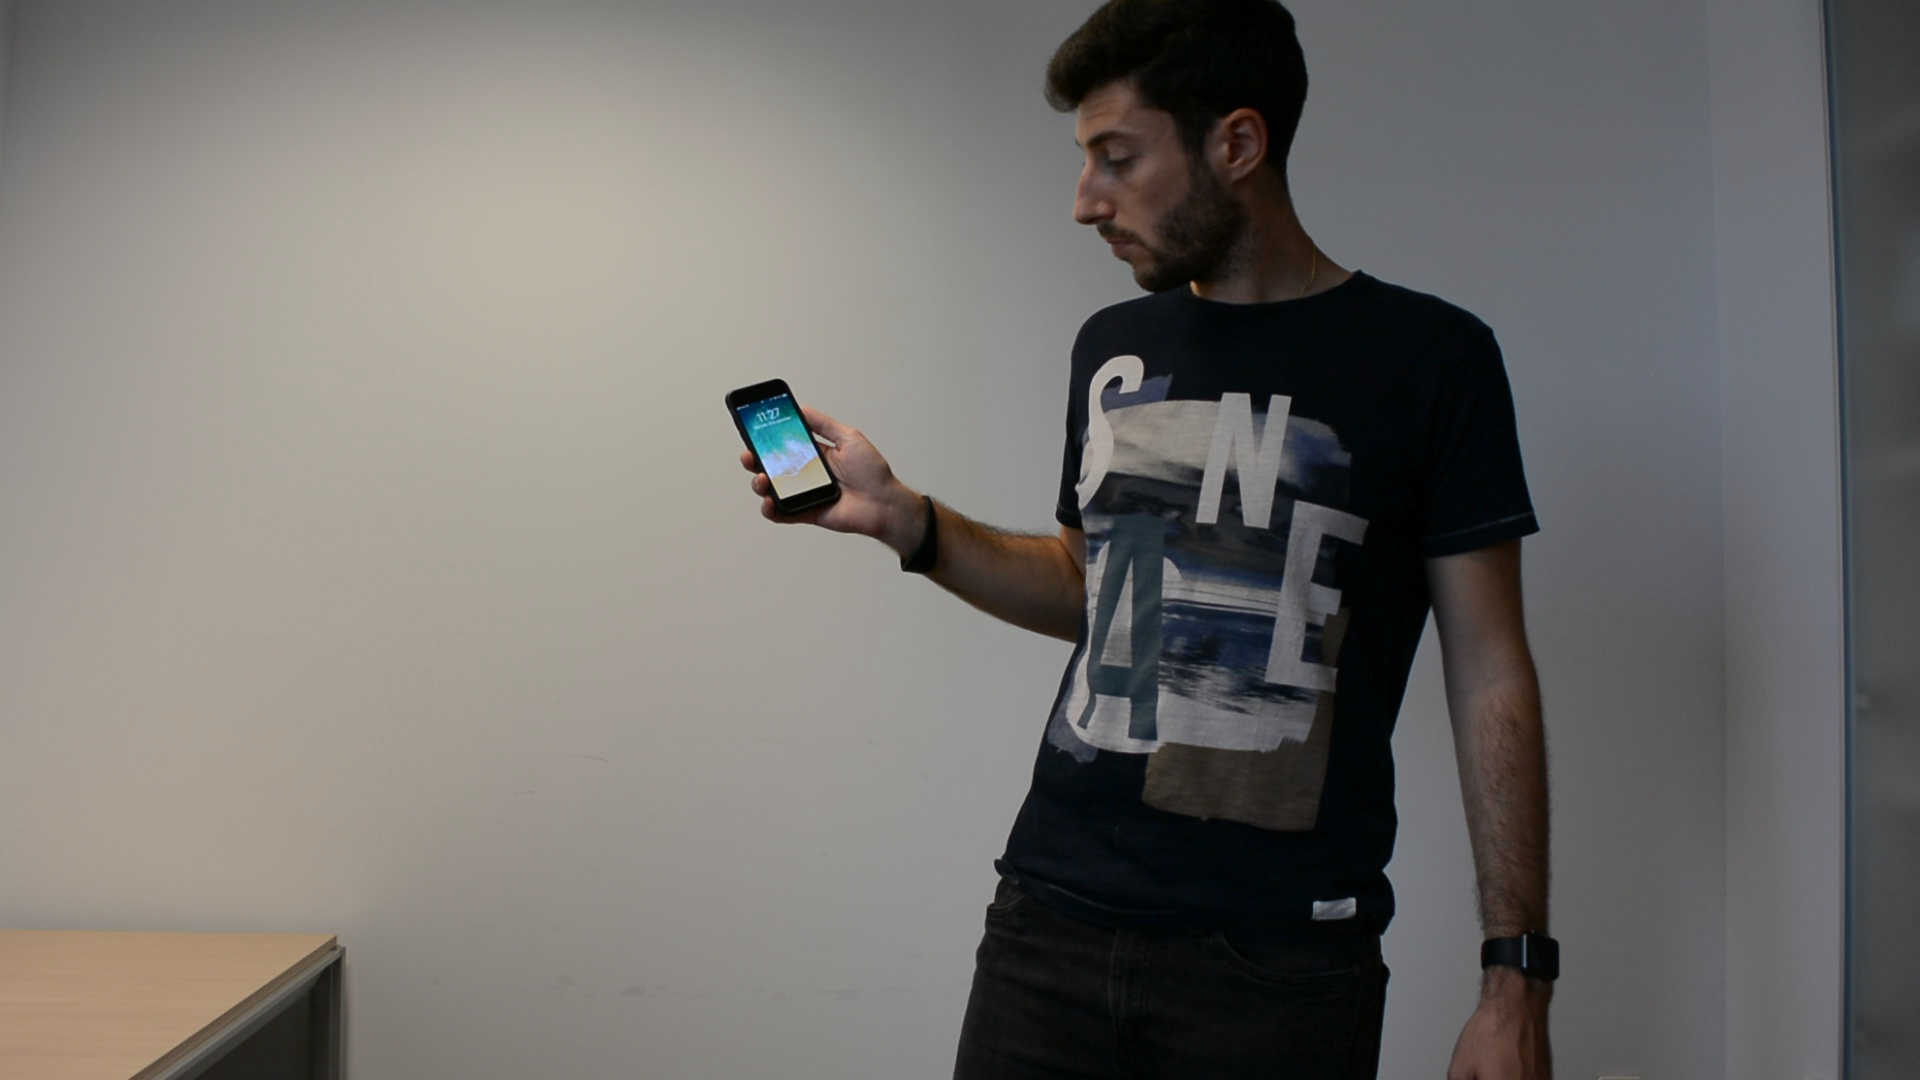smartphone: (724, 377, 843, 518)
